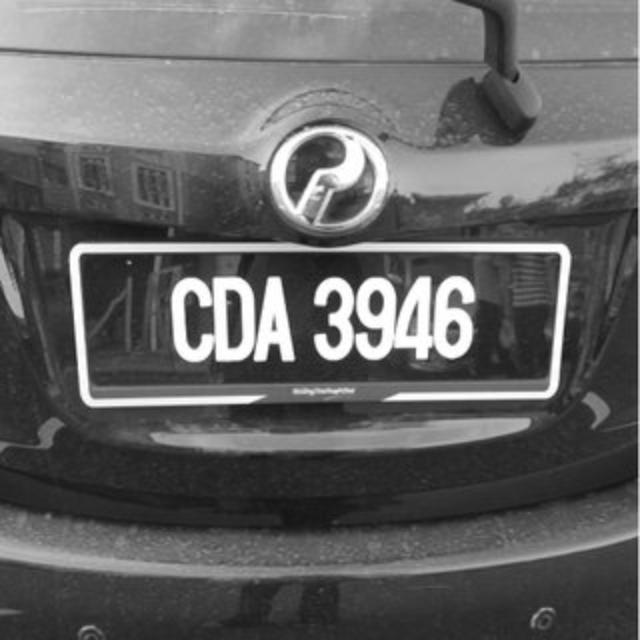License_Plate: (85, 256, 554, 391)
